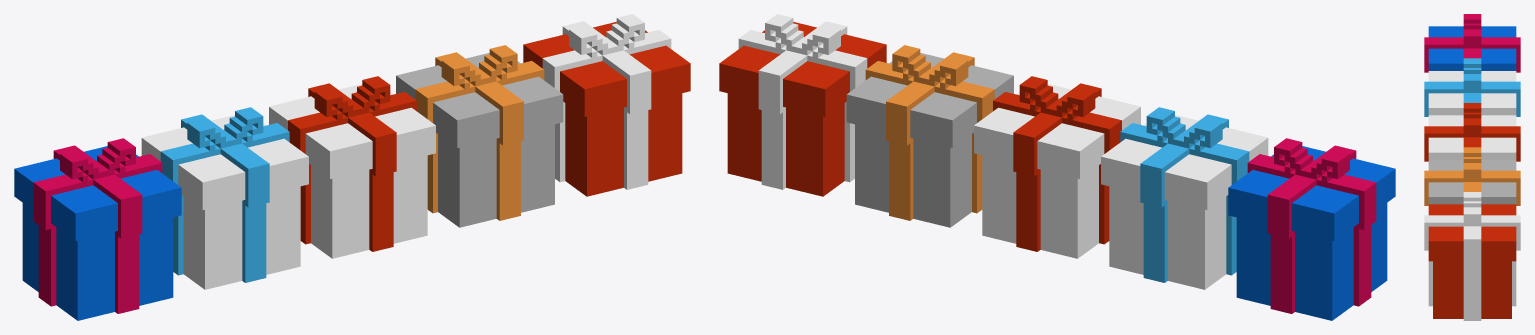
Rendered from Gift_Boxes.fbx.
The picture shows the model from 3 angles, left to right: view 1: azimuth 30°, elevation 25°; view 2: azimuth 150°, elevation 25°; view 3: azimuth 270°, elevation 25°; orthographic projection. The views are drawn at different scales.
Parts seen in each view (by area): view 1: Gift_Box_3, Gift_Box_4, Gift_Box_1, Gift_Box_2, Gift_Box_0; view 2: Gift_Box_3, Gift_Box_4, Gift_Box_1, Gift_Box_2, Gift_Box_0; view 3: Gift_Box_4, Gift_Box_0, Gift_Box_1, Gift_Box_2, Gift_Box_3.
Boxes of the visible parts, box(x1,y1,x2,y2) form: Gift_Box_3: box(14, 138, 181, 320); Gift_Box_4: box(523, 14, 690, 196); Gift_Box_1: box(141, 107, 308, 289); Gift_Box_2: box(396, 45, 563, 227); Gift_Box_0: box(269, 76, 435, 258); Gift_Box_3: box(1228, 138, 1395, 320); Gift_Box_4: box(719, 14, 886, 196); Gift_Box_1: box(1101, 107, 1268, 289); Gift_Box_2: box(846, 45, 1013, 227); Gift_Box_0: box(974, 76, 1140, 258); Gift_Box_4: box(1424, 192, 1520, 320); Gift_Box_0: box(1424, 103, 1520, 161); Gift_Box_1: box(1424, 58, 1520, 116); Gift_Box_2: box(1424, 147, 1520, 205); Gift_Box_3: box(1424, 14, 1520, 72).
Bounding box in the file's own units: 118 × 25 × 22.
Materials: 1 (1 with a texture image).
